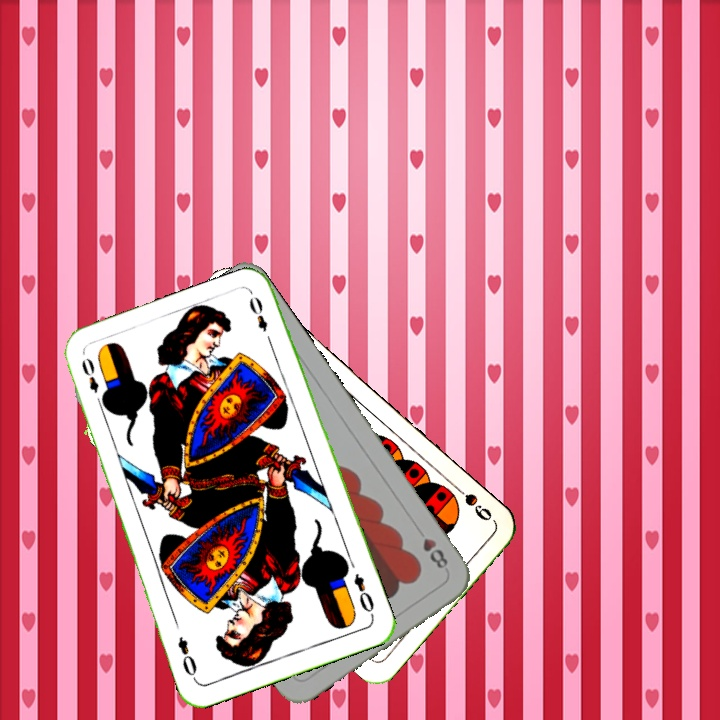EO: (77, 354, 107, 409), (349, 569, 377, 620)
H8: (411, 523, 451, 571)
S9: (447, 479, 495, 524)
